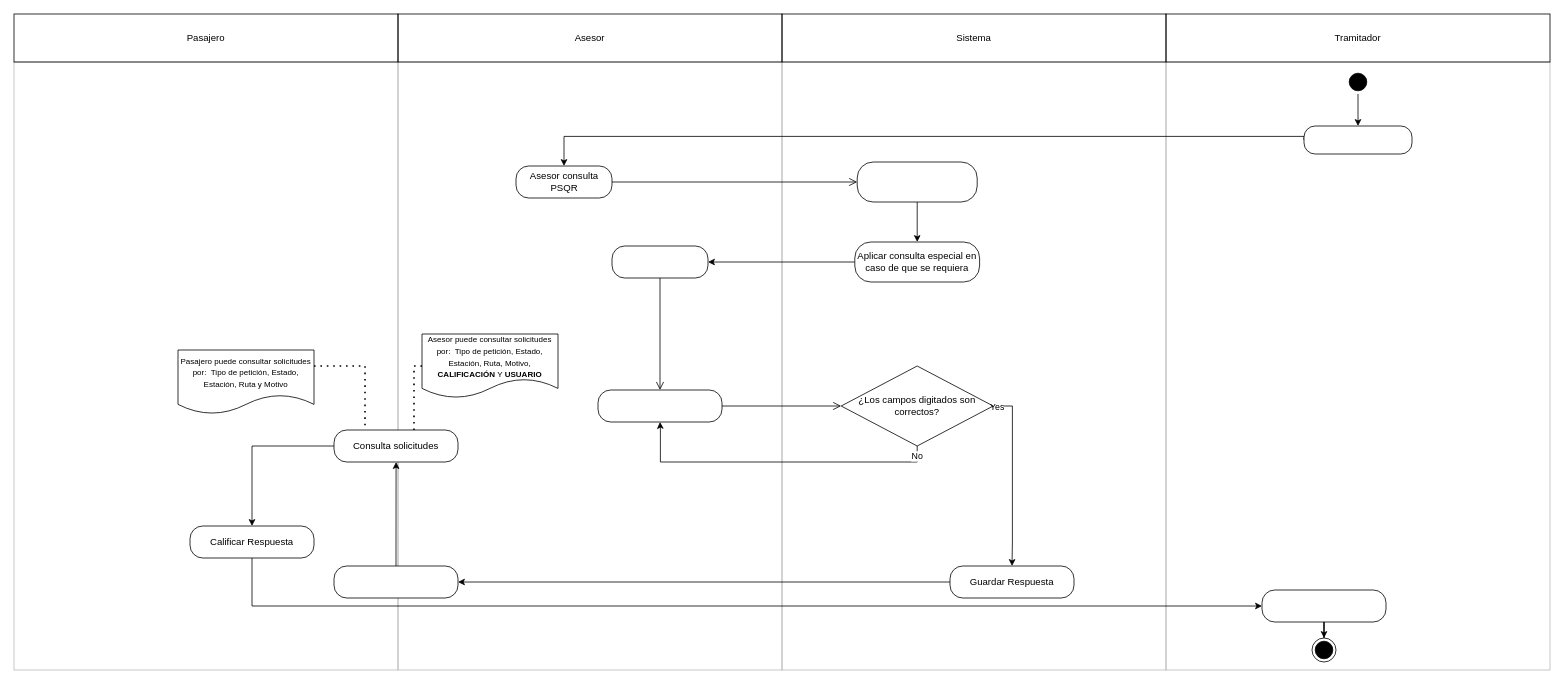
The diagram is 1564 pixels wide and 684 high, and some of its shapes have lost their labels. Each missing label, with the centre of its shape:
"Archivar respuesta" belongs at point 1323,605.
"Asesor crea la respuesta" belongs at point 659,405.
"Asesor selecciona una solicitud" belongs at point 659,261.
"Asigna la solicitud" belongs at point 1357,139.
"Búsqueda de las solicitudes en la base de datos" belongs at point 916,181.
"Enviar Respuesta" belongs at point 395,581.
